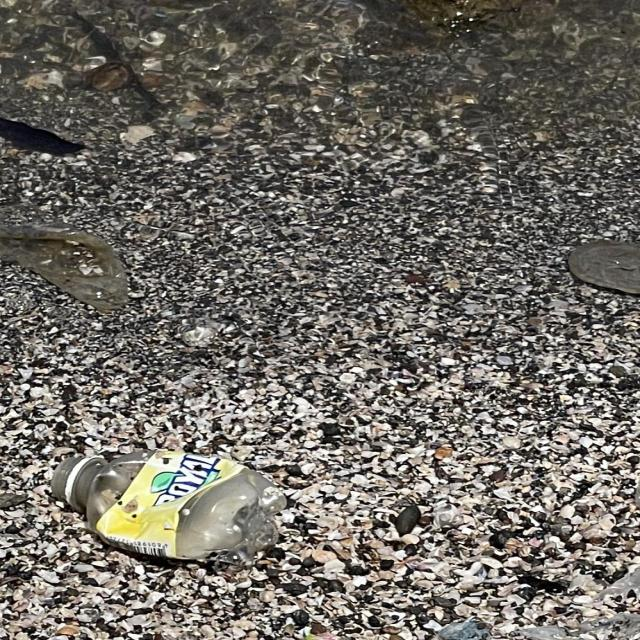plastic_waste: (48, 454, 287, 565)
